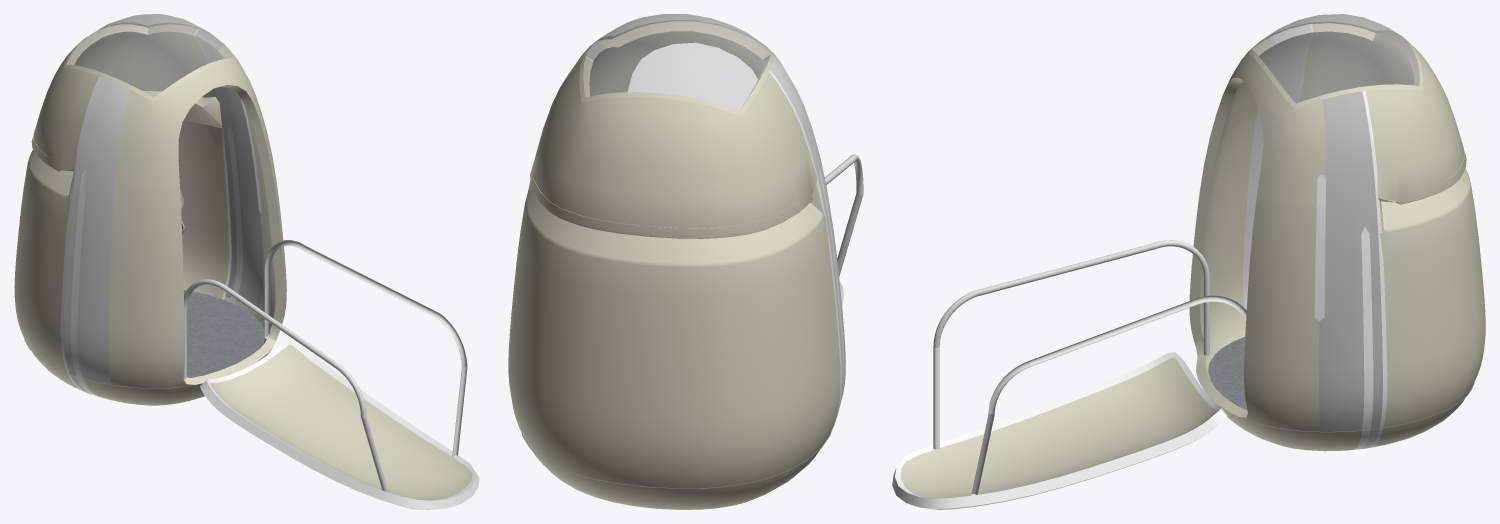
3 renders of one model, left to right at view 1: azimuth 30°, elevation 25°; view 2: azimuth 150°, elevation 25°; view 3: azimuth 270°, elevation 25°, orthographic. The views are drawn at different scales.
Parts seen in each view (by area): view 1: Geom3D (×10), Geom3D_Component#5 (×2); view 2: Geom3D (×5), Geom3D_Component#5; view 3: Geom3D (×10), Geom3D_Component#5 (×2).
Boxes of the visible parts, x1,y1,x2,y2 form: Geom3D (×10): (14, 14, 479, 509); Geom3D_Component#5 (×2): (183, 240, 467, 491); Geom3D (×5): (508, 14, 845, 509); Geom3D_Component#5: (824, 154, 863, 276); Geom3D (×10): (892, 14, 1485, 509); Geom3D_Component#5 (×2): (933, 240, 1246, 495).
Bounding box in the file's own units: 2.28 × 2.91 × 3.77.
8 materials, 3 textured.
